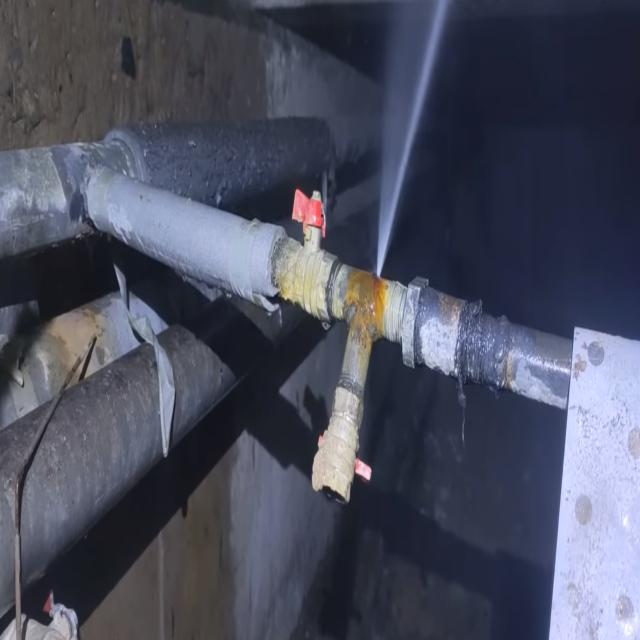leak: (376, 0, 448, 275)
